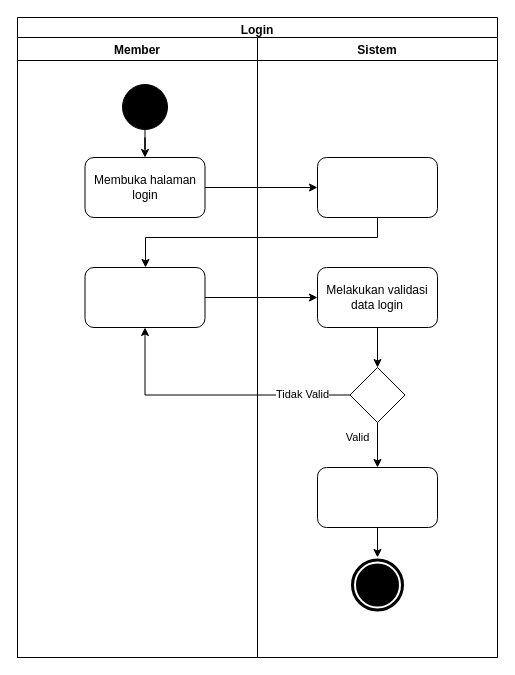
The diagram is 515 pixels wide and 675 high, and some of its shapes have lost their labels. The centre of each missing label's shape, as x and y in pixels:
Menampilkan halaman login: the point at 377,187
Menampilkan halaman profil: the point at 377,497
Mengisi email dan password: the point at 144,297
